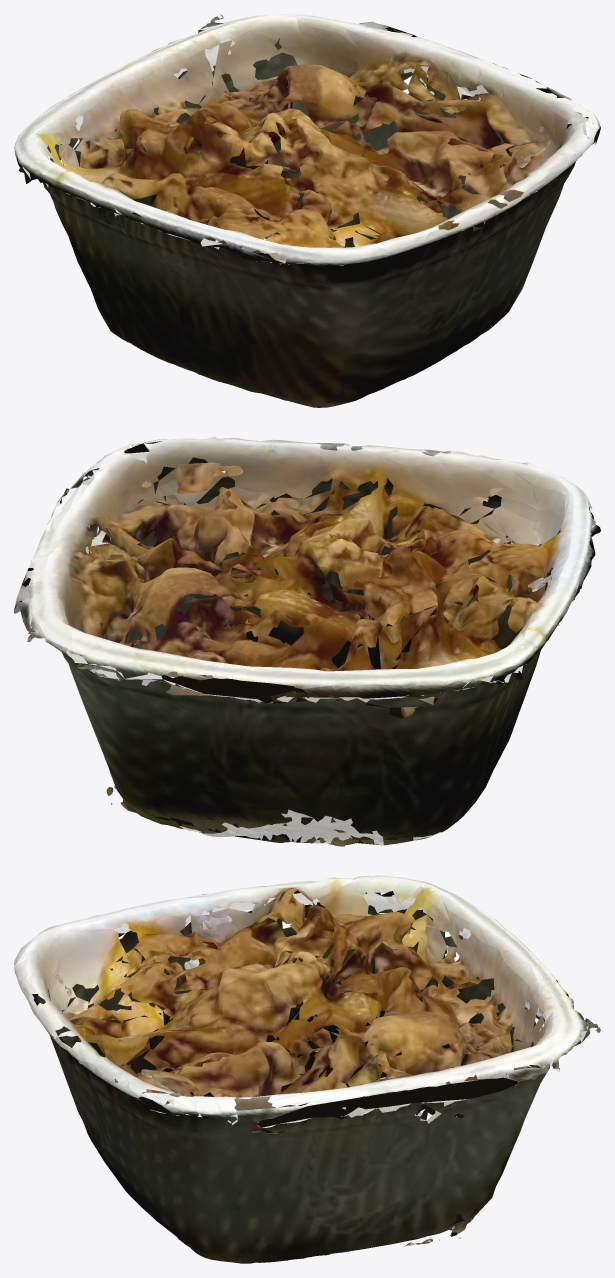
File: gyudon.glb
3 views of the same model, one above another, from view 1: azimuth 30°, elevation 25°; view 2: azimuth 150°, elevation 25°; view 3: azimuth 270°, elevation 25° (orthographic). The views are drawn at different scales.
Visible parts, largest first — view 1: Object_4, Object_5; view 2: Object_4, Object_5; view 3: Object_4, Object_5.
Boxes of the visible parts, x1=… form: Object_4: x1=14, y1=14, x2=600, y2=407; Object_5: x1=19, y1=16, x2=598, y2=407; Object_4: x1=14, y1=436, x2=595, y2=845; Object_5: x1=14, y1=439, x2=600, y2=846; Object_4: x1=14, y1=875, x2=587, y2=1263; Object_5: x1=29, y1=891, x2=599, y2=1262.
Bounding box in the file's own units: 0.183 × 0.0842 × 0.19.
3 materials, 3 textured.
